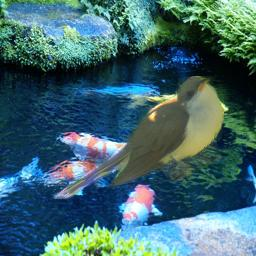Cuckoo: (51, 76, 224, 199)
